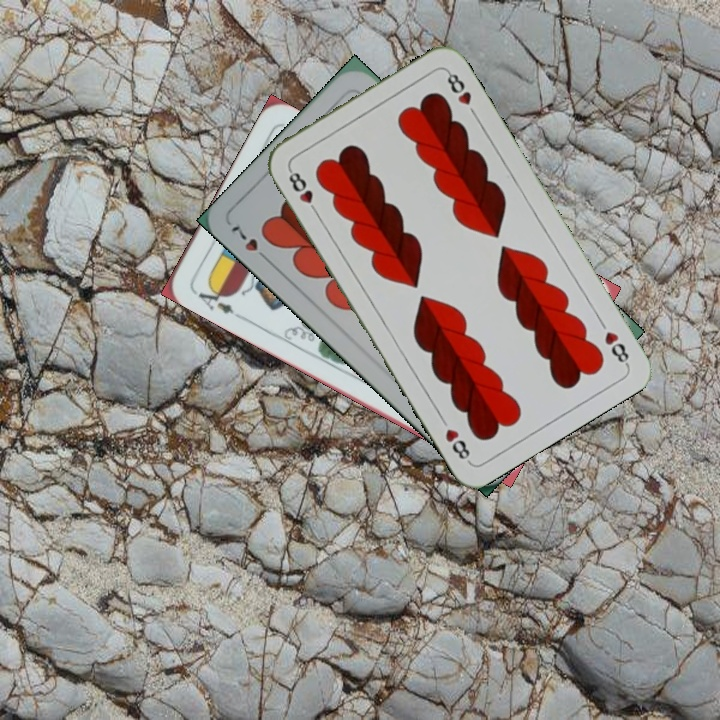EA: (189, 280, 237, 317)
H7: (227, 219, 274, 266)
H8: (594, 315, 632, 368), (284, 164, 321, 218)
